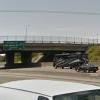Bridge: (4, 26, 90, 56)
